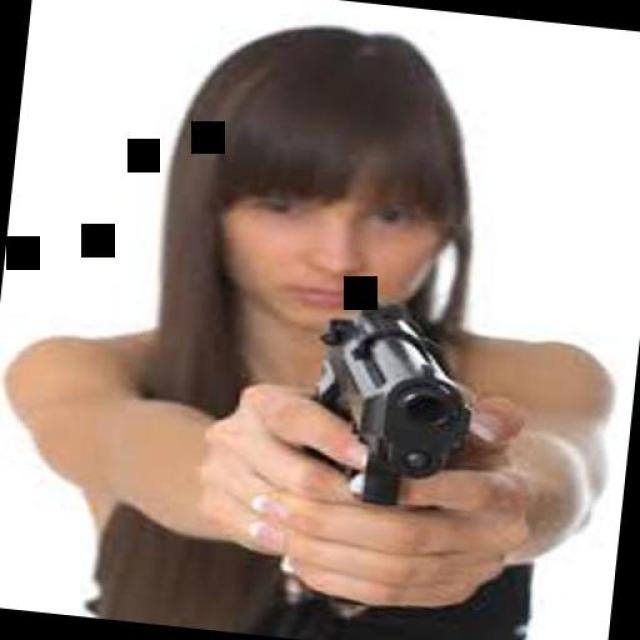gun: (278, 289, 492, 630)
